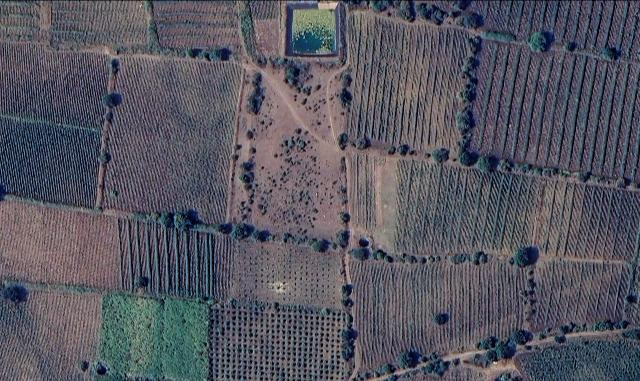EmptyFarms: (231, 64, 345, 246), (0, 202, 116, 291)
Farms: (349, 255, 635, 381), (347, 145, 638, 266), (462, 33, 640, 187), (98, 59, 245, 232), (343, 11, 468, 162), (1, 42, 113, 209), (209, 305, 351, 381), (115, 214, 232, 305), (468, 0, 640, 59), (94, 295, 207, 381), (0, 289, 101, 381), (234, 233, 347, 309), (1, 0, 152, 51), (149, 0, 249, 54)
water: (281, 4, 339, 53)
